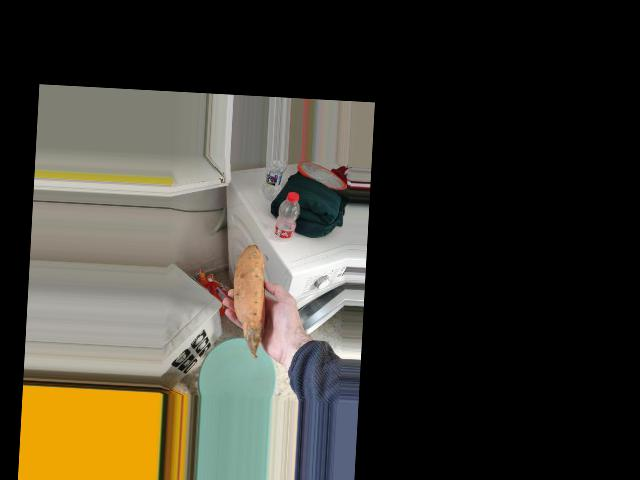sweet_potato: (230, 243, 270, 354)
